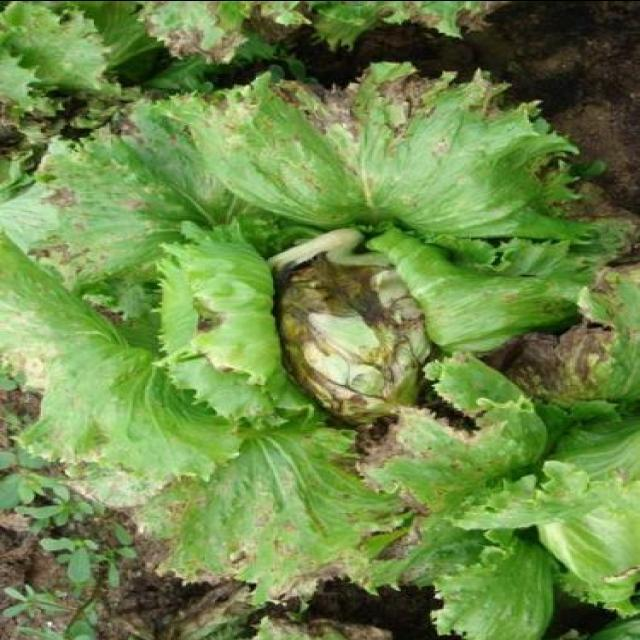Baby: (42, 154, 608, 490)
